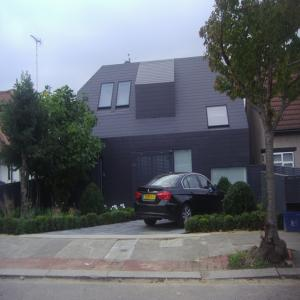Vehicle-registration-plate: (147, 195, 156, 199)
